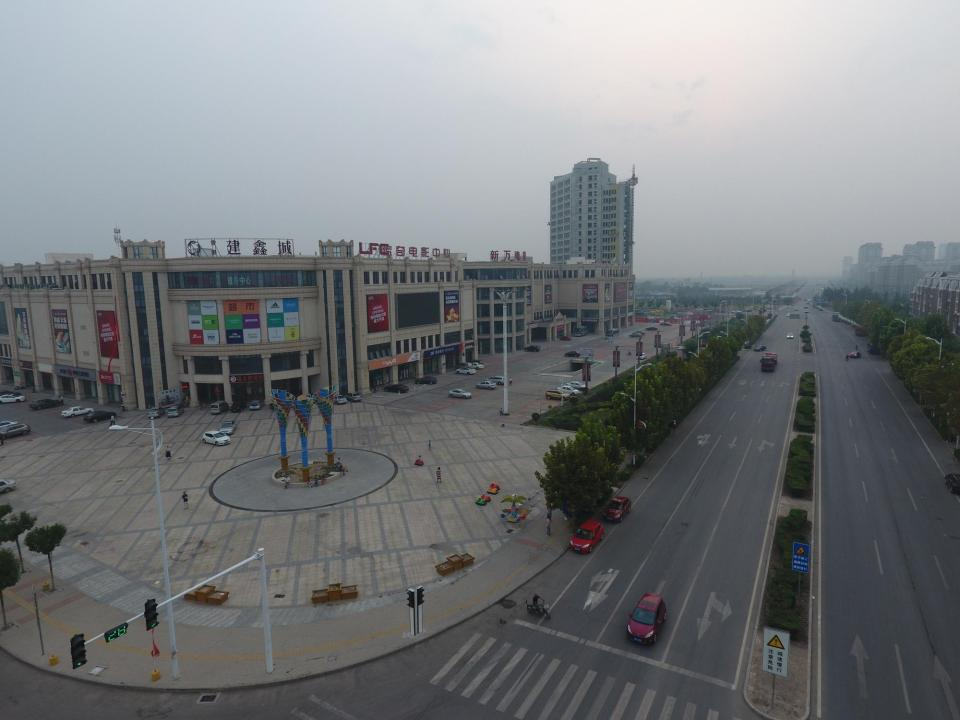bus: (604, 328, 620, 340), (573, 326, 588, 336)
car: (627, 592, 667, 644), (570, 521, 603, 553), (602, 496, 632, 522), (0, 424, 31, 440), (201, 430, 231, 446), (28, 398, 61, 410), (61, 406, 94, 417), (83, 411, 116, 422), (546, 389, 571, 401), (218, 420, 236, 435), (557, 385, 580, 396), (0, 393, 25, 403), (384, 384, 409, 393), (448, 389, 472, 398), (0, 421, 19, 432), (566, 381, 589, 390), (147, 407, 165, 418), (0, 391, 21, 400), (230, 401, 247, 412), (167, 406, 184, 417), (345, 392, 363, 402), (415, 376, 437, 384), (248, 400, 264, 410), (476, 381, 496, 389), (331, 395, 348, 404), (456, 367, 476, 374), (305, 394, 319, 404), (467, 362, 484, 370), (524, 344, 540, 352), (564, 351, 582, 357), (849, 351, 862, 358), (628, 332, 643, 338), (636, 352, 646, 360), (754, 345, 767, 351), (559, 335, 571, 341), (633, 330, 645, 336), (646, 326, 657, 331), (660, 322, 672, 326), (787, 333, 794, 339), (732, 310, 741, 314), (695, 308, 703, 312), (743, 309, 752, 312), (794, 306, 799, 311), (794, 312, 800, 316), (804, 309, 809, 313), (804, 305, 808, 309), (787, 313, 791, 317)
truck: (760, 352, 778, 371), (867, 342, 881, 354), (855, 327, 864, 336), (832, 314, 841, 322)
van: (210, 400, 228, 414), (485, 375, 506, 385)
